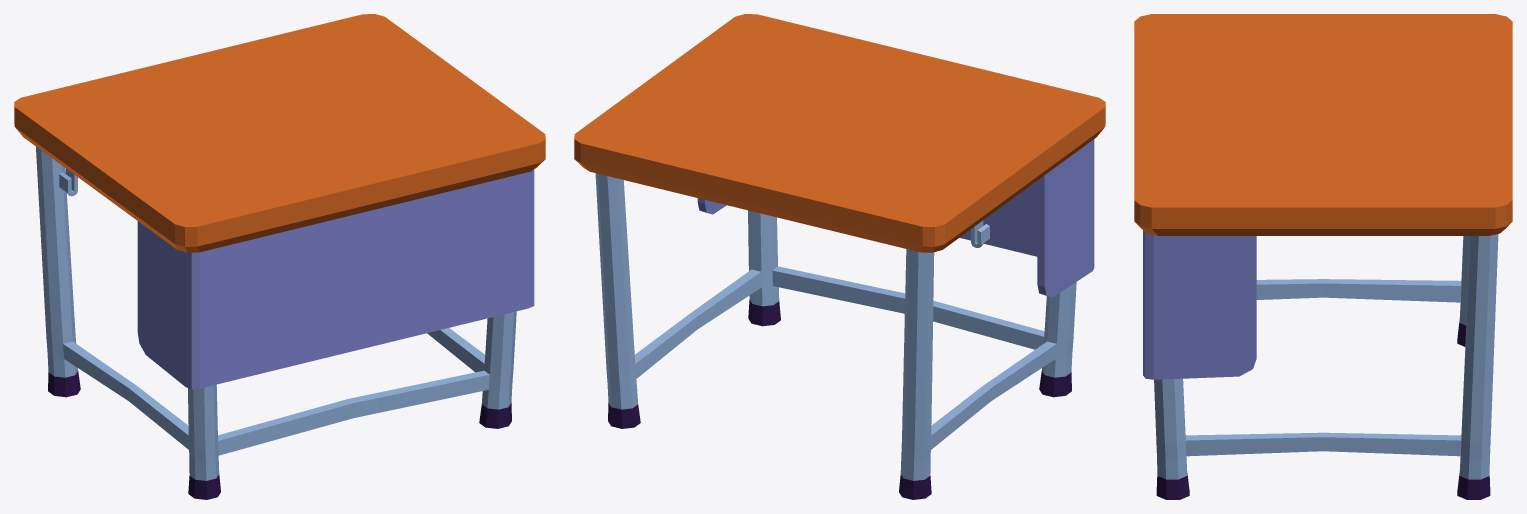
Rendered from Table.fbx.
3 renders of one model, left to right at view 1: azimuth 30°, elevation 25°; view 2: azimuth 150°, elevation 25°; view 3: azimuth 270°, elevation 25°, orthographic. The views are drawn at different scales.
Visible parts, largest first — view 1: Table, TablePiece3, TablePiece1, TablePiece2; view 2: Table, TablePiece1, TablePiece3, TablePiece2; view 3: Table, TablePiece1, TablePiece2, TablePiece3.
Part boxes in pixels (<box>): Table: <box>14,15,545,498</box>; TablePiece3: <box>84,160,400,499</box>; TablePiece1: <box>14,14,415,397</box>; TablePiece2: <box>378,139,545,428</box>; Table: <box>574,14,1105,499</box>; TablePiece1: <box>574,110,1013,497</box>; TablePiece3: <box>887,105,1105,382</box>; TablePiece2: <box>655,200,886,363</box>; Table: <box>1134,14,1512,499</box>; TablePiece1: <box>1346,14,1512,499</box>; TablePiece2: <box>1134,200,1426,499</box>; TablePiece3: <box>1256,279,1354,299</box>.
Bounding box in the file's own units: 1350 × 995 × 1114.
